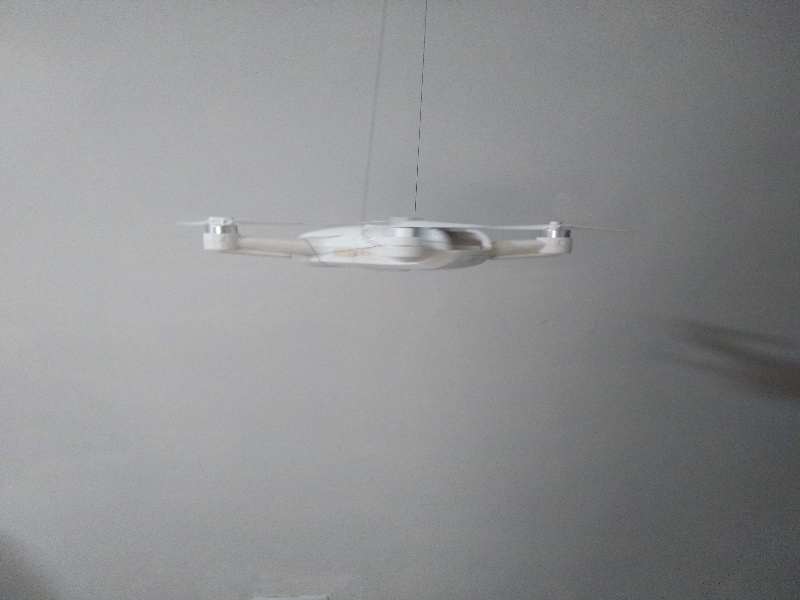drone: (181, 180, 595, 287)
